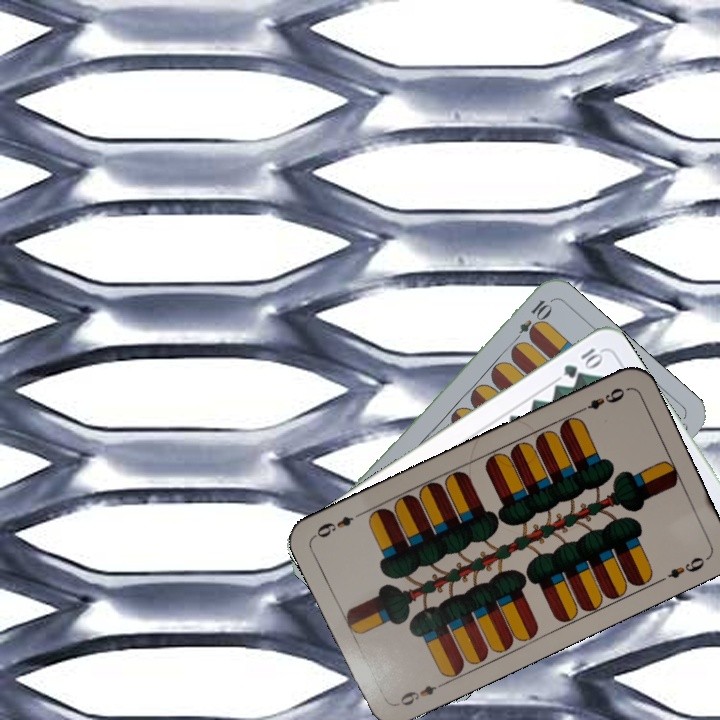E10: (508, 295, 554, 348)
E9: (391, 678, 448, 709), (574, 383, 627, 416)
G10: (559, 343, 605, 381)
